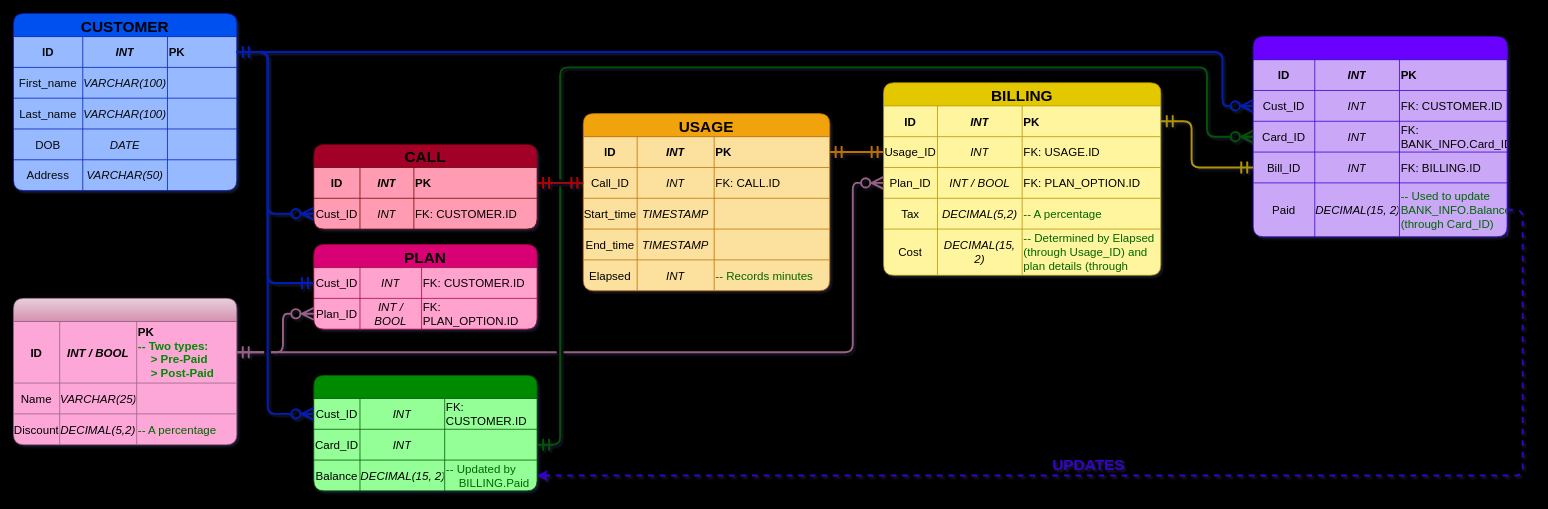
Image size: 1548x509. Some labels were removed from this diagram. The box of each missing label's shape, as (x1, y1, x2, y2) in pixels:
BANK_INFO: (313, 375, 537, 491)
PAYMENT: (1252, 36, 1507, 237)
PLAN_OPTION: (13, 298, 237, 445)
